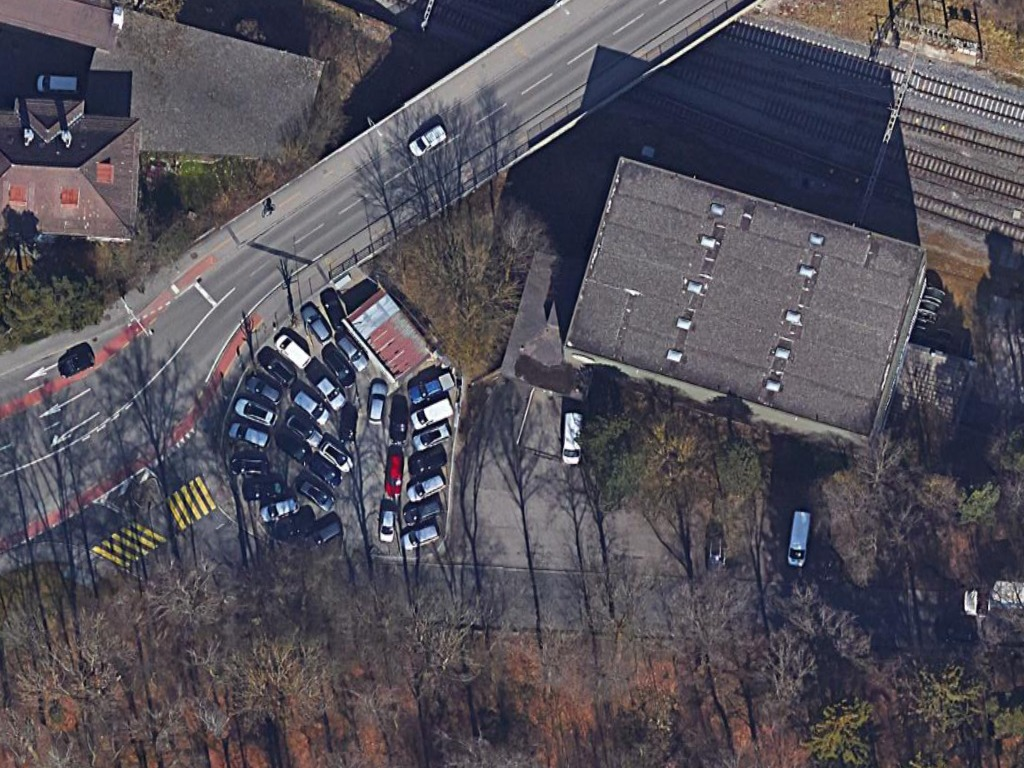car: (270, 329, 315, 372), (361, 373, 392, 430), (405, 121, 449, 160), (230, 396, 280, 430), (287, 386, 330, 424), (254, 494, 304, 526), (241, 372, 287, 406), (330, 332, 369, 372), (380, 447, 410, 499), (396, 520, 442, 553), (300, 302, 335, 345), (403, 472, 450, 503), (32, 70, 84, 98), (223, 421, 273, 450), (375, 504, 400, 547)
van: (781, 506, 813, 570), (405, 394, 458, 431), (556, 408, 584, 469)
